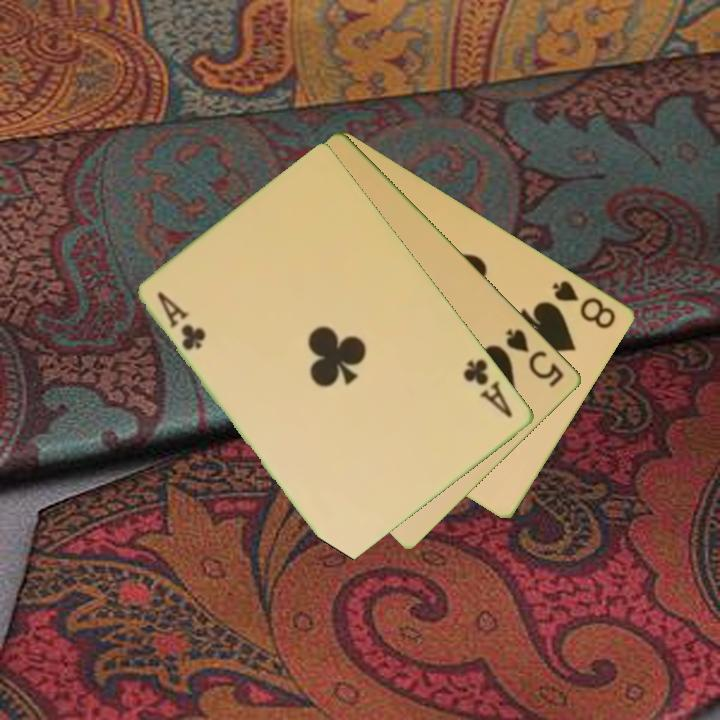5s: (503, 324, 568, 391)
8s: (549, 276, 620, 332)
Ac: (154, 287, 210, 354), (460, 355, 516, 421)
